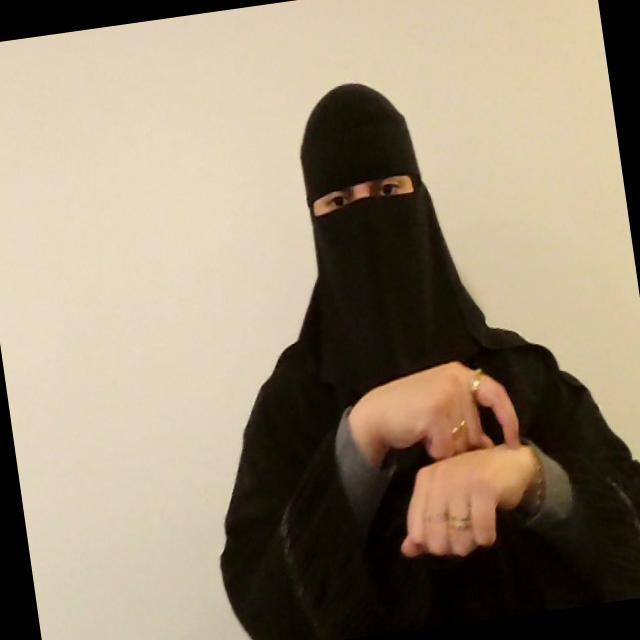appointment: (362, 344, 560, 574)
